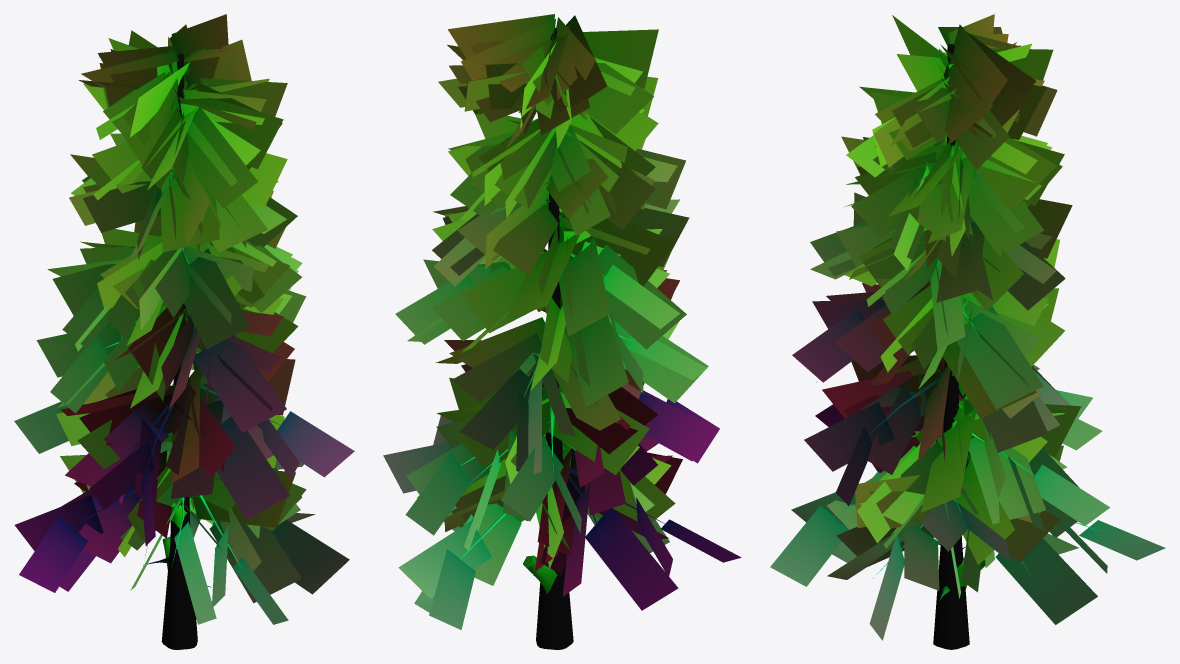
Rendered from M_Pine_2_5.fbx.
3 renders of one model, left to right at view 1: azimuth 30°, elevation 25°; view 2: azimuth 150°, elevation 25°; view 3: azimuth 270°, elevation 25°, orthographic. The views are drawn at different scales.
Visible parts, largest first — view 1: Tree_5; view 2: Tree_5; view 3: Tree_5.
Boxes of the visible parts, bbox=[...] form: Tree_5: bbox=[14, 14, 354, 649]; Tree_5: bbox=[383, 14, 741, 649]; Tree_5: bbox=[770, 14, 1165, 649].
Bounding box in the file's own units: 1369 × 2580 × 1505.
